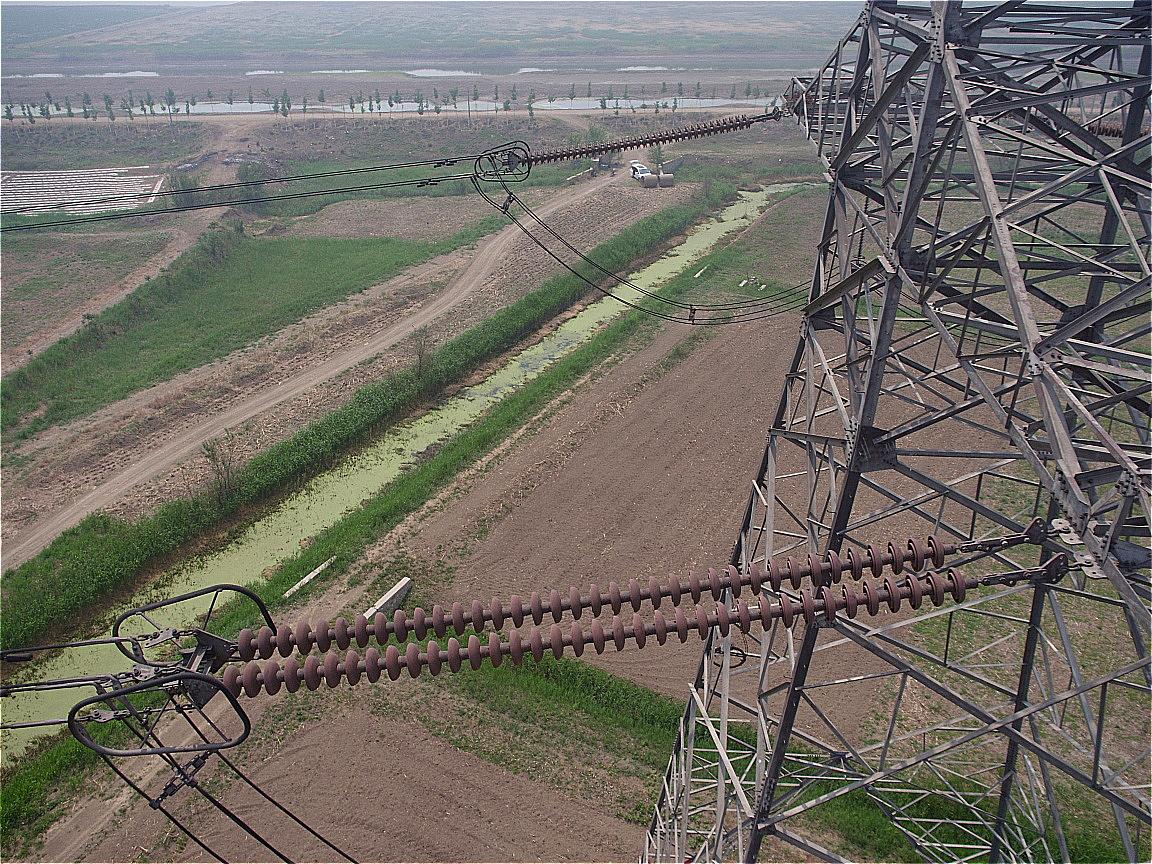insultor1: (222, 535, 962, 700)
insultor2: (520, 114, 752, 166)
